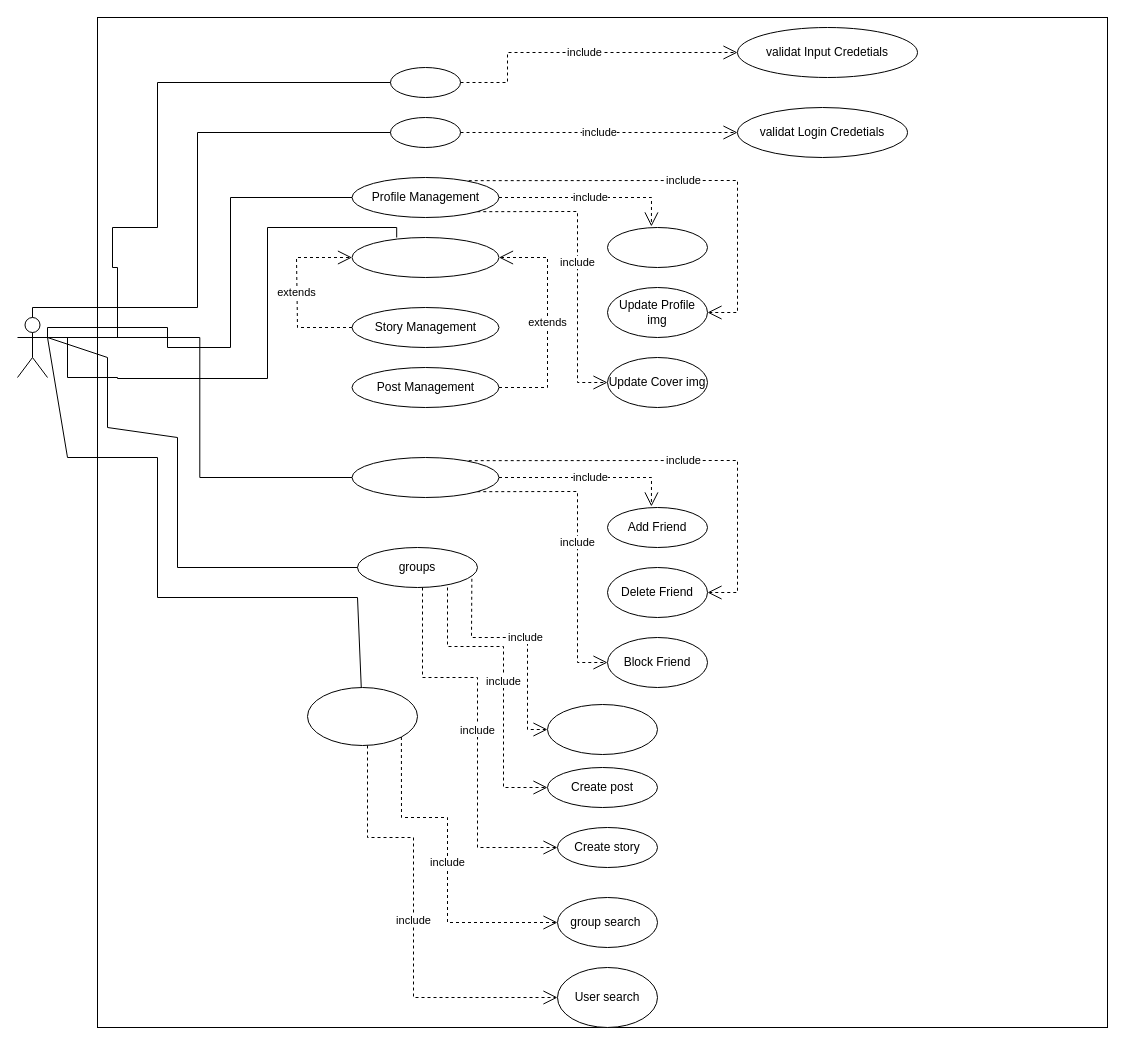
Some shapes in this 1125 by 1045 pixel diagram are drawn without their labels. Here are the shapes that lost their labels. From the top down, the box of each, then its label:
(390, 66, 460, 98): Signup
(390, 116, 460, 148): Login
(351, 236, 499, 278): Content Management
(606, 226, 708, 268): Update Bio
(16, 316, 48, 378): User
(351, 456, 499, 498): Friend Management
(306, 686, 418, 746): search Engine
(546, 704, 658, 754): Create group
